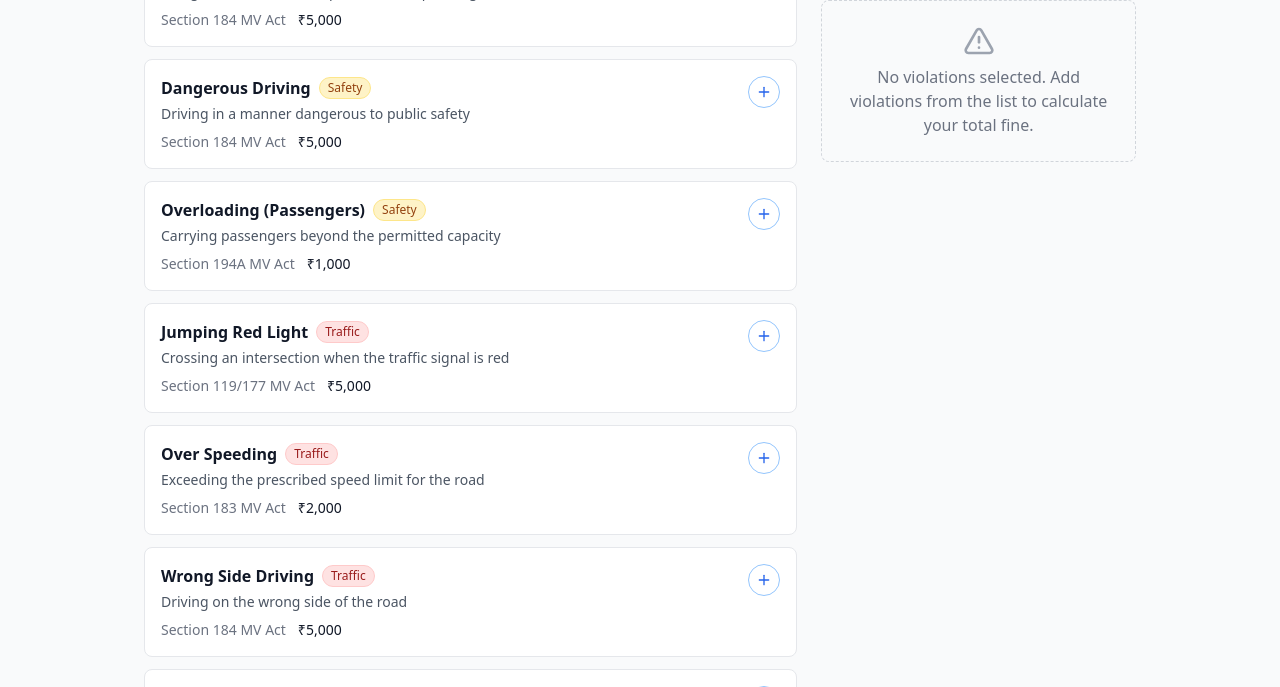
Test: FineCalculator › adds a violation and updates the summary
The width and height of the screenshot is (1280, 687).
(page scrolled)
Click the button named "Add Jumping Red Light" at (764,336), box [748,320,780,352]
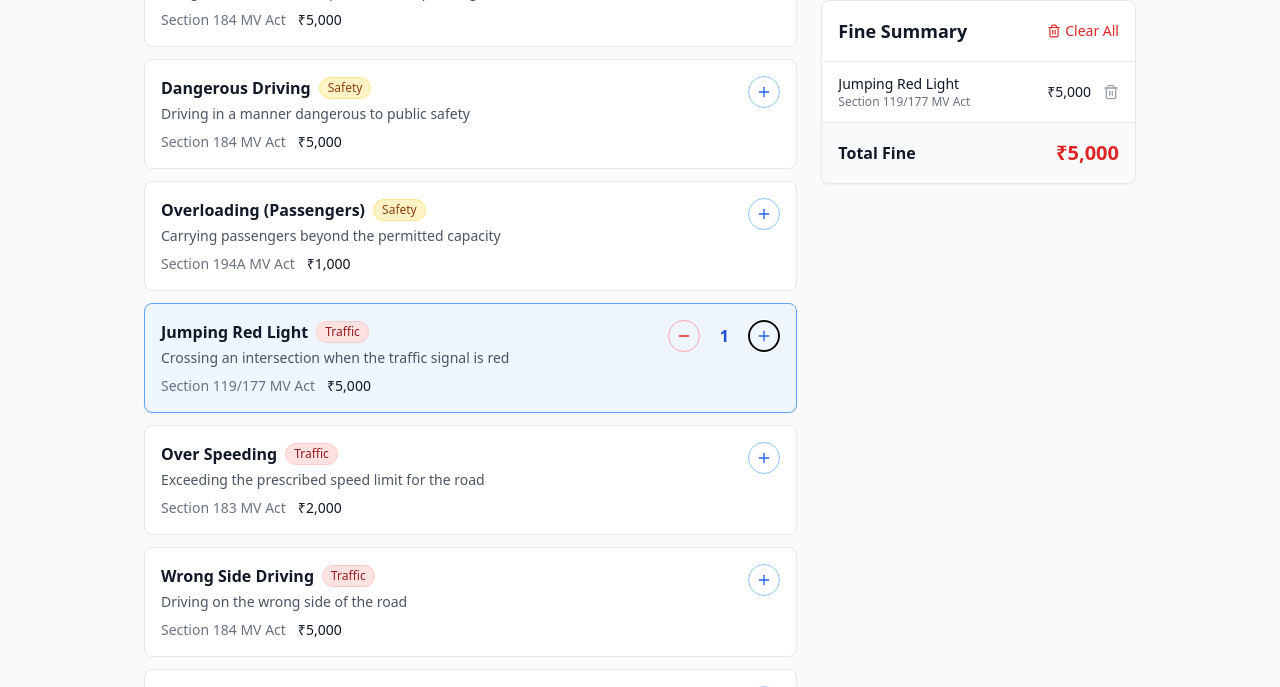
Result: the heading "Fine Summary" is shown at [838,17,967,45]
